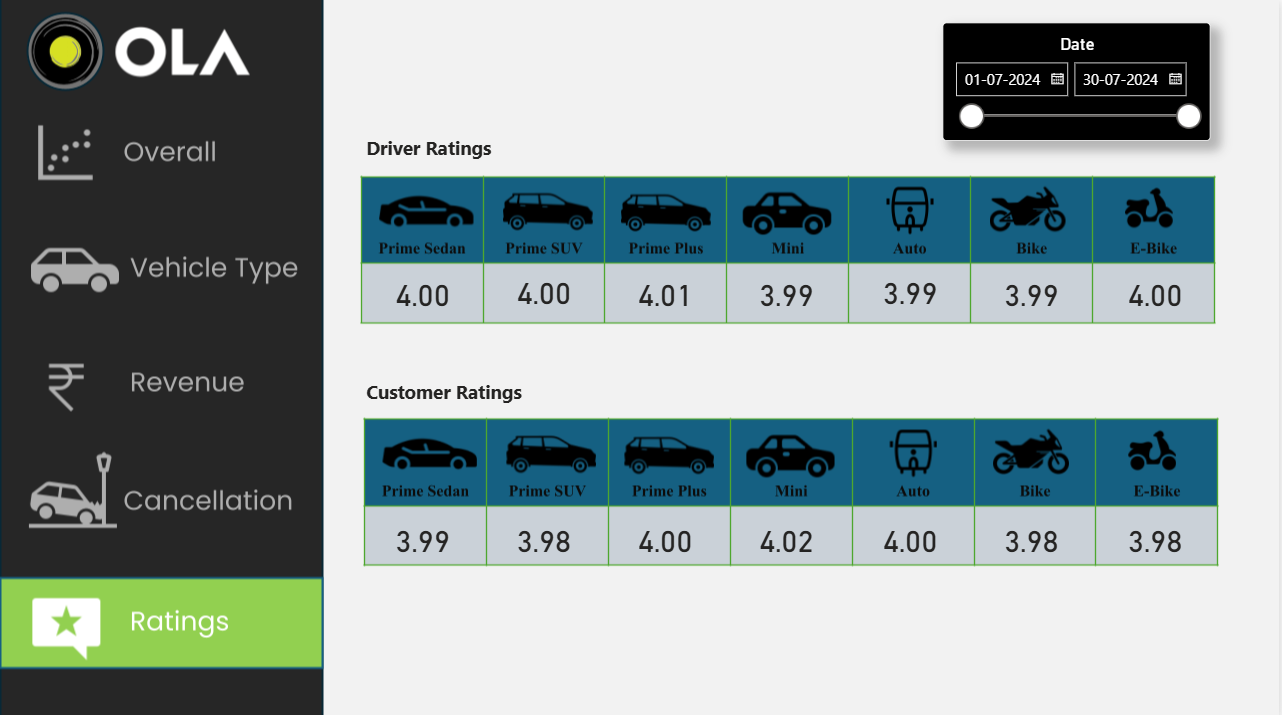

This screenshot's page, from the dashboard's own definition file:
{"tool":"powerbi","page":{"name":"Ratings","canvas":[1280,720],"ordinal":4},"visuals":[{"type":"actionButton","box":[0,222,322.1,92.9],"z":0},{"type":"actionButton","box":[1.2,337.8,322.1,92.9],"z":1000},{"type":"actionButton","box":[1.2,450,322.1,92.9],"z":2000},{"type":"actionButton","box":[1.2,446.4,322.1,92.9],"z":3000},{"type":"actionButton","box":[0,106.2,320.9,94.1],"z":4000},{"type":"card","fields":{"Values":["Avg(July.Driver_Ratings)"]},"box":[367.3,269.9,110.9,46.5],"z":4001},{"type":"card","fields":{"Values":["Avg(July.Driver_Ratings)"]},"box":[488.7,268.4,110.9,46.5],"z":4002},{"type":"card","fields":{"Values":["Avg(July.Driver_Ratings)"]},"box":[610.2,269.9,110.9,46.5],"z":4003},{"type":"card","fields":{"Values":["Avg(July.Driver_Ratings)"]},"box":[731.6,269.9,110.9,46.5],"z":4004},{"type":"card","fields":{"Values":["Avg(July.Driver_Ratings)"]},"box":[854.5,268.4,110.9,46.5],"z":4005},{"type":"card","fields":{"Values":["Avg(July.Driver_Ratings)"]},"box":[976,269.9,110.9,46.5],"z":4006},{"type":"card","fields":{"Values":["Avg(July.Driver_Ratings)"]},"box":[1100.4,269.9,110.9,46.5],"z":4007},{"type":"textbox","box":[361.3,130.4,149.9,43.5],"z":4008},{"type":"textbox","box":[361.3,373.3,232.4,45],"z":4009},{"type":"card","fields":{"Values":["Avg(July.Customer_Rating)"]},"box":[367.3,515.7,110.9,46.5],"z":4010},{"type":"card","fields":{"Values":["Avg(July.Customer_Rating)"]},"box":[488.7,515.7,110.9,46.5],"z":4011},{"type":"card","fields":{"Values":["Avg(July.Customer_Rating)"]},"box":[610.2,515.7,110.9,46.5],"z":4012},{"type":"card","fields":{"Values":["Avg(July.Customer_Rating)"]},"box":[731.6,515.7,110.9,46.5],"z":4013},{"type":"card","fields":{"Values":["Avg(July.Customer_Rating)"]},"box":[854.5,515.7,110.9,46.5],"z":4014},{"type":"card","fields":{"Values":["Avg(July.Customer_Rating)"]},"box":[976,515.7,110.9,46.5],"z":4015},{"type":"card","fields":{"Values":["Avg(July.Customer_Rating)"]},"box":[1100.4,515.7,110.9,46.5],"z":4016},{"type":"slicer","title":"Date","fields":{"Values":["July.Date"]},"box":[943,22.5,268.4,118.4],"z":4017}]}

Visuals, with their boxes on the page's 1280x720 design canvas (x1, y1, x2, y2). These are canvas units, not pixel positions in the 1282x715 screenshot, which may show the page scaled, cropped or inside an application window:
actionButton: bbox(0, 222, 322, 315)
actionButton: bbox(1, 338, 323, 431)
actionButton: bbox(1, 450, 323, 543)
actionButton: bbox(1, 446, 323, 539)
actionButton: bbox(0, 106, 321, 200)
card - Avg(July.Driver_Ratings): bbox(367, 270, 478, 316)
card - Avg(July.Driver_Ratings): bbox(489, 268, 600, 315)
card - Avg(July.Driver_Ratings): bbox(610, 270, 721, 316)
card - Avg(July.Driver_Ratings): bbox(732, 270, 842, 316)
card - Avg(July.Driver_Ratings): bbox(854, 268, 965, 315)
card - Avg(July.Driver_Ratings): bbox(976, 270, 1087, 316)
card - Avg(July.Driver_Ratings): bbox(1100, 270, 1211, 316)
textbox: bbox(361, 130, 511, 174)
textbox: bbox(361, 373, 594, 418)
card - Avg(July.Customer_Rating): bbox(367, 516, 478, 562)
card - Avg(July.Customer_Rating): bbox(489, 516, 600, 562)
card - Avg(July.Customer_Rating): bbox(610, 516, 721, 562)
card - Avg(July.Customer_Rating): bbox(732, 516, 842, 562)
card - Avg(July.Customer_Rating): bbox(854, 516, 965, 562)
card - Avg(July.Customer_Rating): bbox(976, 516, 1087, 562)
card - Avg(July.Customer_Rating): bbox(1100, 516, 1211, 562)
"Date" slicer: bbox(943, 22, 1211, 141)
